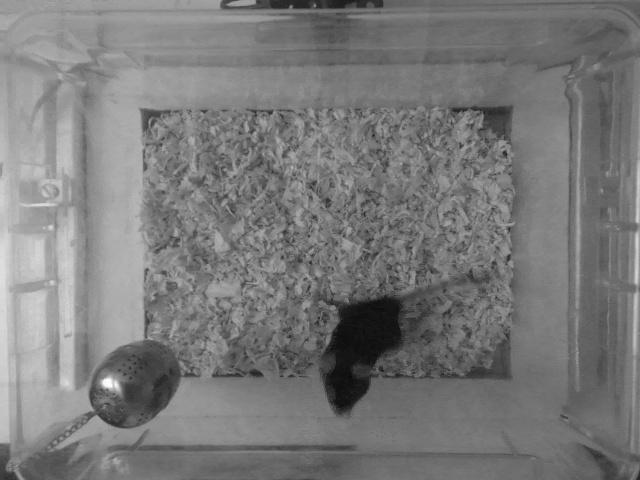mice: (317, 272, 487, 424)
